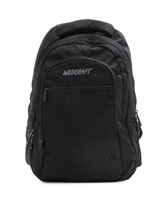bag: (23, 19, 149, 188)
